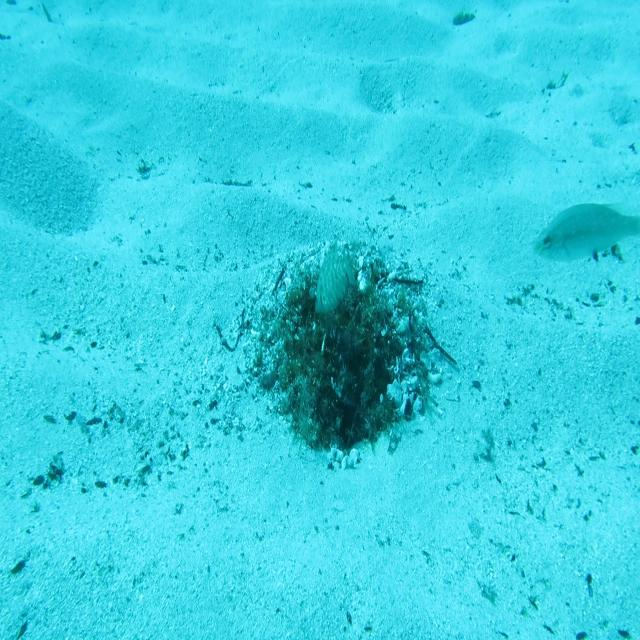NIP_CORE: (312, 235, 361, 319)
core_nest: (311, 293, 358, 330)
female: (532, 201, 640, 265)
nest: (231, 226, 451, 473)
vegetation: (450, 9, 476, 28)
